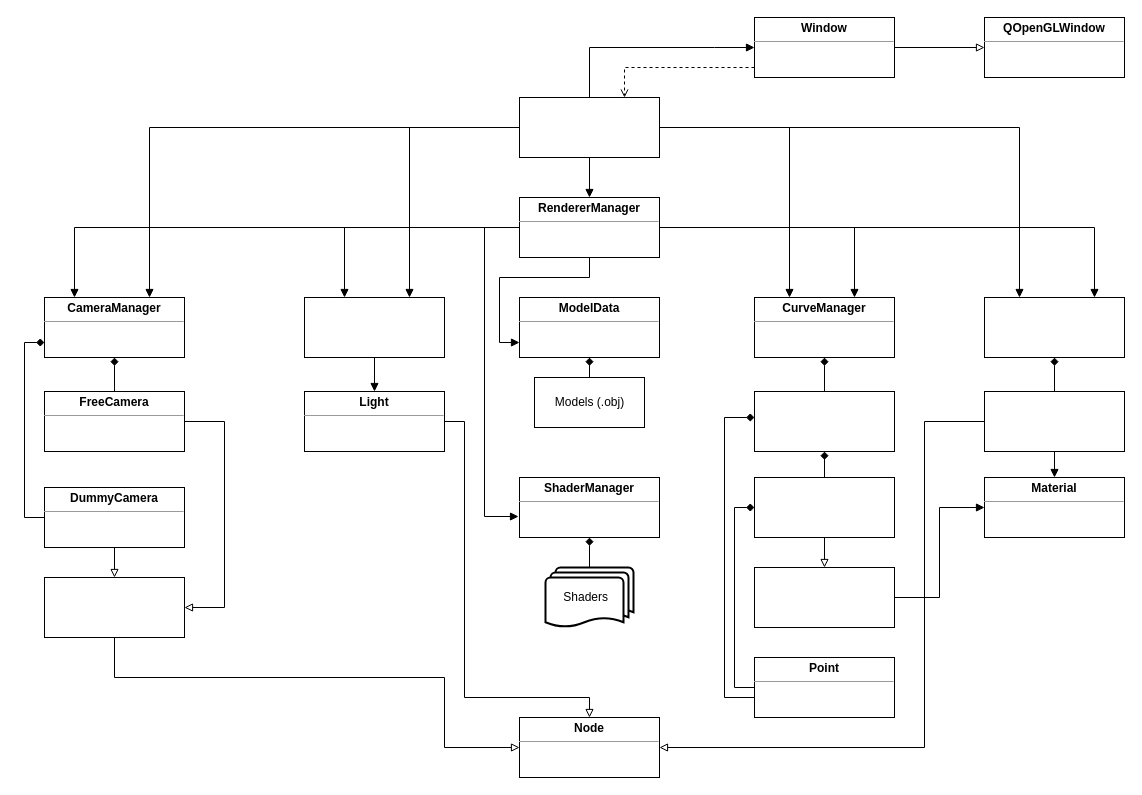
The diagram is 1142 pixels wide and 795 high, and some of its shapes have lost their labels. The shapes that lost their labels are listed below. From the top down, each one's centre as x and y in pixels, then its label:
[589,127]: Controller
[374,327]: LightManager
[1054,327]: ModelManager
[824,421]: Spline
[1054,421]: Model
[824,507]: Bezier
[114,607]: Camera
[824,597]: Curve
